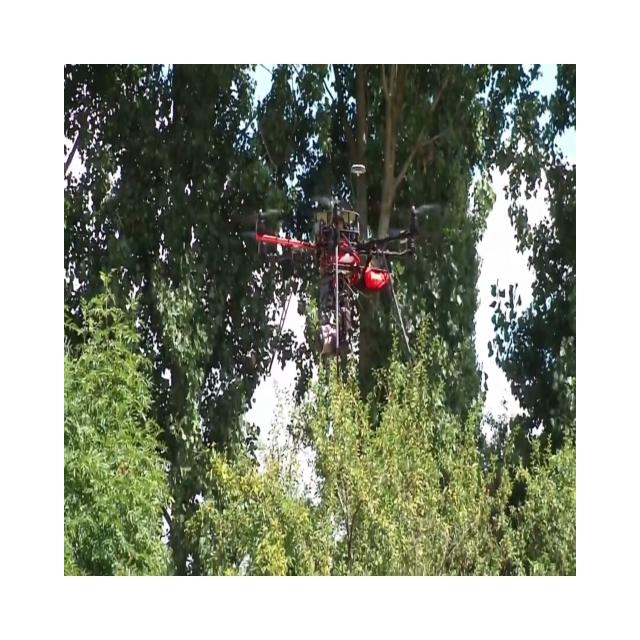drone: (239, 162, 443, 370)
